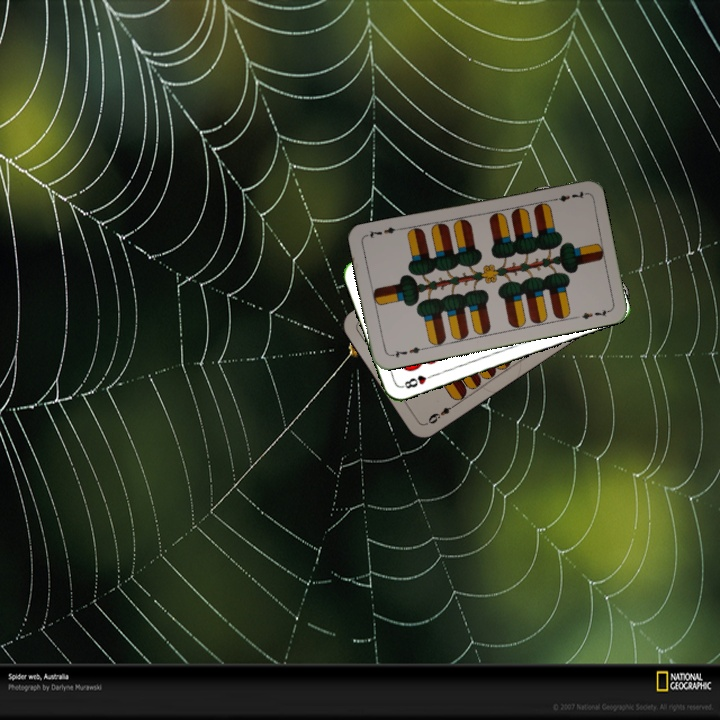E7: (386, 343, 427, 360), (547, 187, 588, 204)
E9: (424, 400, 459, 427)
H8: (398, 370, 437, 391)
